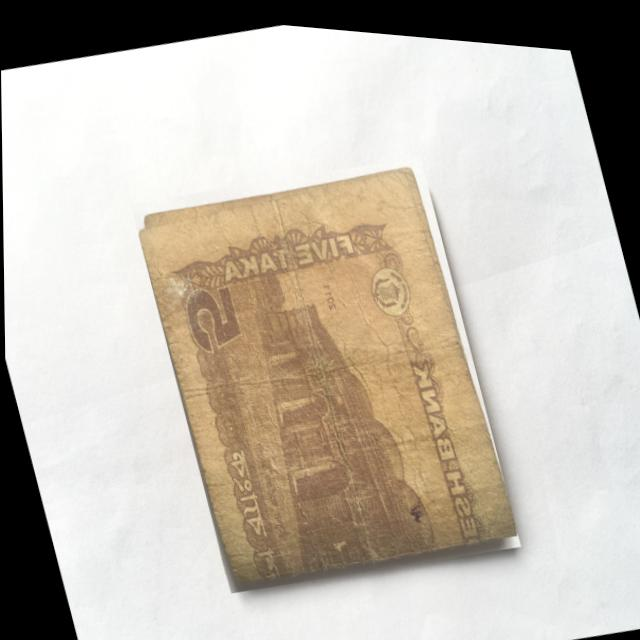Taka: (128, 128, 521, 609)
